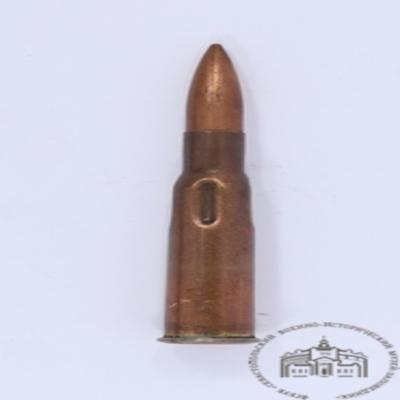weapon: (157, 44, 256, 345)
